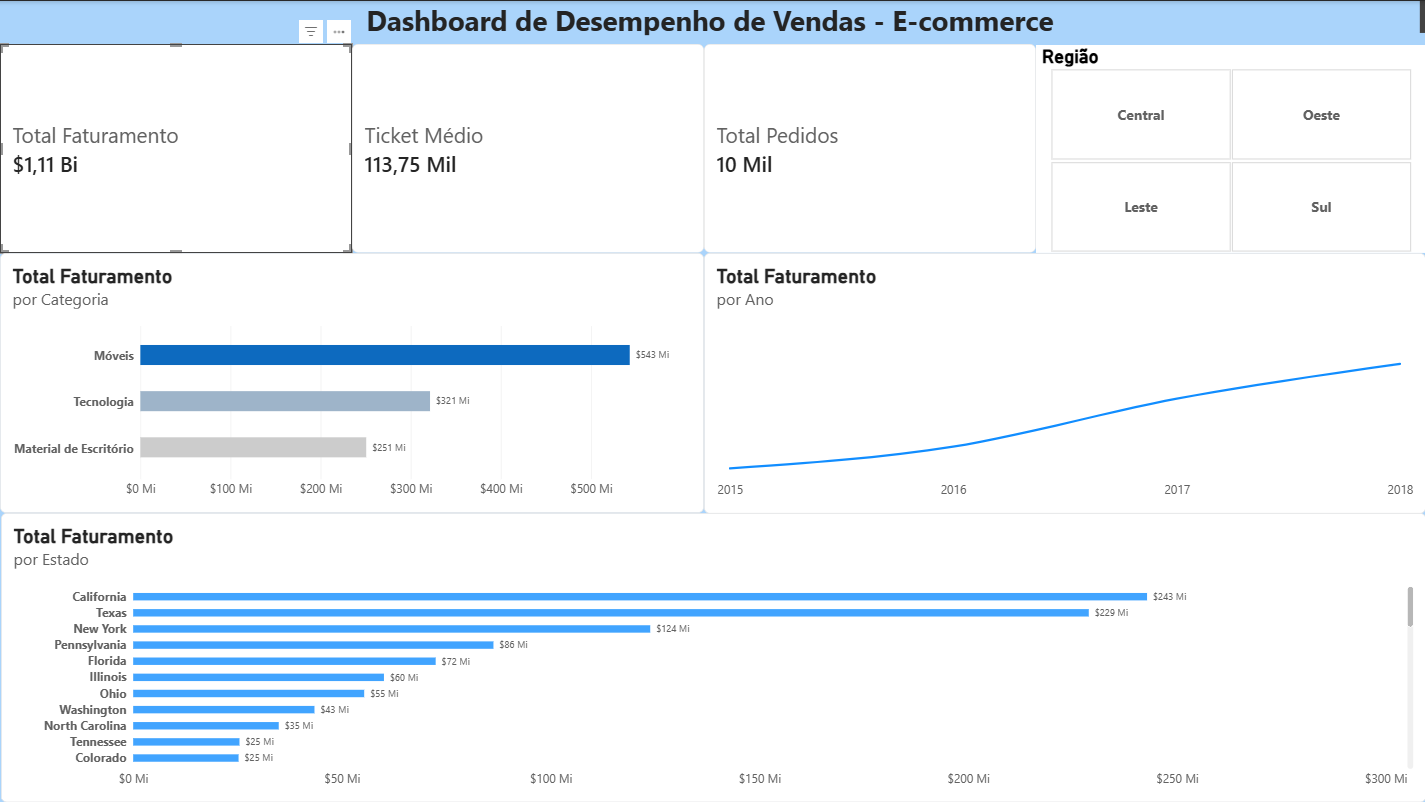

This screenshot's page, from the dashboard's own definition file:
{"tool":"powerbi","page":{"name":"Página 1","canvas":[1920,1080],"ordinal":0},"visuals":[{"type":"cardVisual","fields":{"Data":["VendasEcommerce.Total Faturamento"]},"box":[0,57.9,474,281.4],"z":0},{"type":"cardVisual","fields":{"Data":["VendasEcommerce.Ticket Médio"]},"box":[474,57.9,474,281.4],"z":1000},{"type":"cardVisual","fields":{"Data":["VendasEcommerce.Total Pedidos"]},"box":[948,57.9,447.1,281.4],"z":2000},{"type":"barChart","fields":{"Category":["VendasEcommerce.Category"],"Y":["VendasEcommerce.Total Faturamento"]},"box":[0,339.4,948,350.1],"z":3000},{"type":"lineChart","fields":{"Category":["VendasEcommerce.Order_Date.Variação.Hierarquia de datas.Ano","VendasEcommerce.Order_Date.Variação.Hierarquia de datas.Trimestre","VendasEcommerce.Order_Date.Variação.Hierarquia de datas.Mês","VendasEcommerce.Order_Date.Variação.Hierarquia de datas.Dia"],"Y":["VendasEcommerce.Total Faturamento"]},"box":[948,339.4,972.3,351.5],"z":4000},{"type":"clusteredBarChart","fields":{"Category":["VendasEcommerce.State"],"Y":["VendasEcommerce.Total Faturamento"]},"box":[1.3,689.5,1919,390.5],"z":5000},{"type":"slicer","fields":{"Values":["VendasEcommerce.Region"]},"box":[1395.1,59.3,523.8,280.1],"z":6000},{"type":"textbox","box":[0,0,1920,45.8],"z":7000}]}

Visuals, with their boxes in screenshot pixels (x1, y1, x2, y2), scaled from the page's 1920x1080 canvas onto the 1425x802 screenshot:
cardVisual - VendasEcommerce.Total Faturamento: bbox=[0, 43, 352, 252]
cardVisual - VendasEcommerce.Ticket Médio: bbox=[352, 43, 704, 252]
cardVisual - VendasEcommerce.Total Pedidos: bbox=[704, 43, 1035, 252]
barChart - VendasEcommerce.Category x VendasEcommerce.Total Faturamento: bbox=[0, 252, 704, 512]
lineChart - VendasEcommerce.Order_Date.Variação.Hierarquia de datas.Ano x VendasEcommerce.Order_Date.Variação.Hierarquia de datas.Trimestre: bbox=[704, 252, 1424, 513]
clusteredBarChart - VendasEcommerce.State x VendasEcommerce.Total Faturamento: bbox=[1, 512, 1424, 801]
slicer - VendasEcommerce.Region: bbox=[1035, 44, 1424, 252]
textbox: bbox=[0, 0, 1424, 34]
